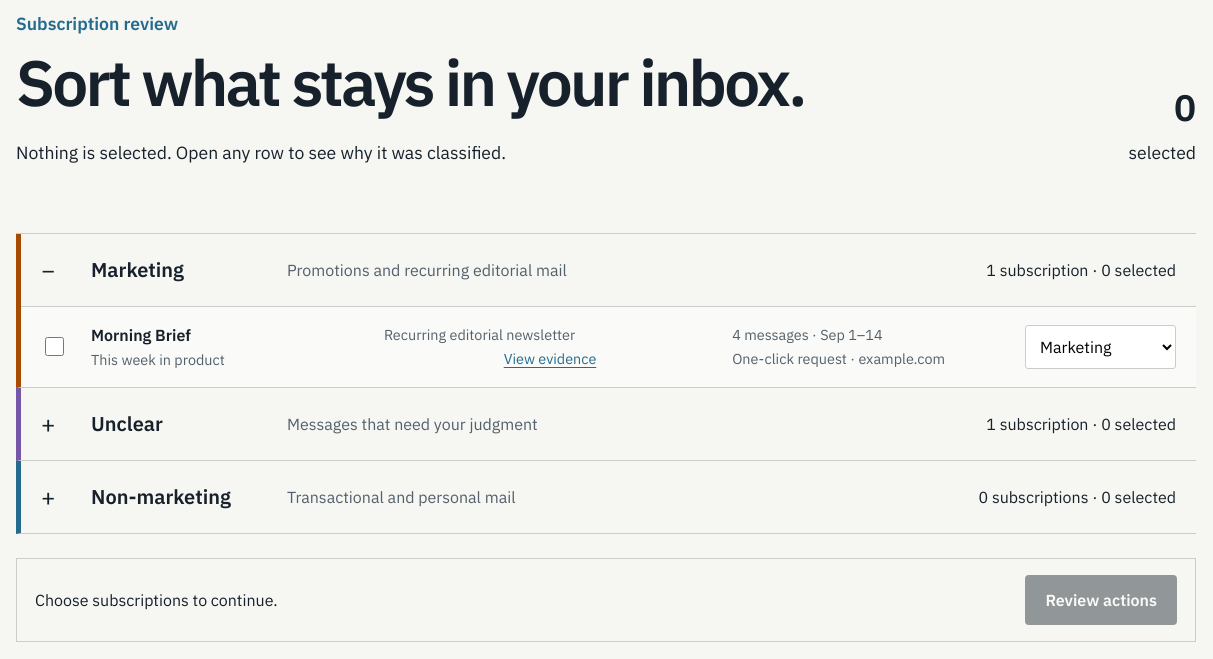
Test: correcting a selected candidate clears its stale selection
Click the checkbox named "morning brief": x=54, y=346 left=45, top=337, right=64, bottom=356
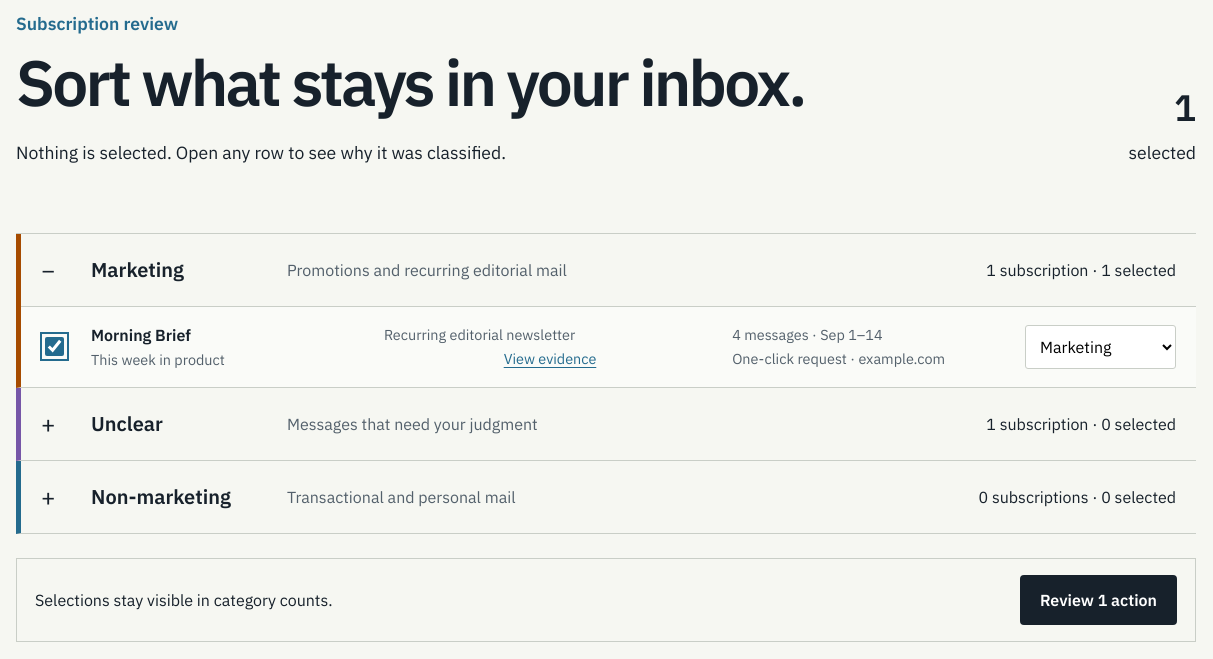
Select "Unclear" in the dropdown named "correct category for morning brief": x=1100, y=347 left=1025, top=325, right=1176, bottom=369
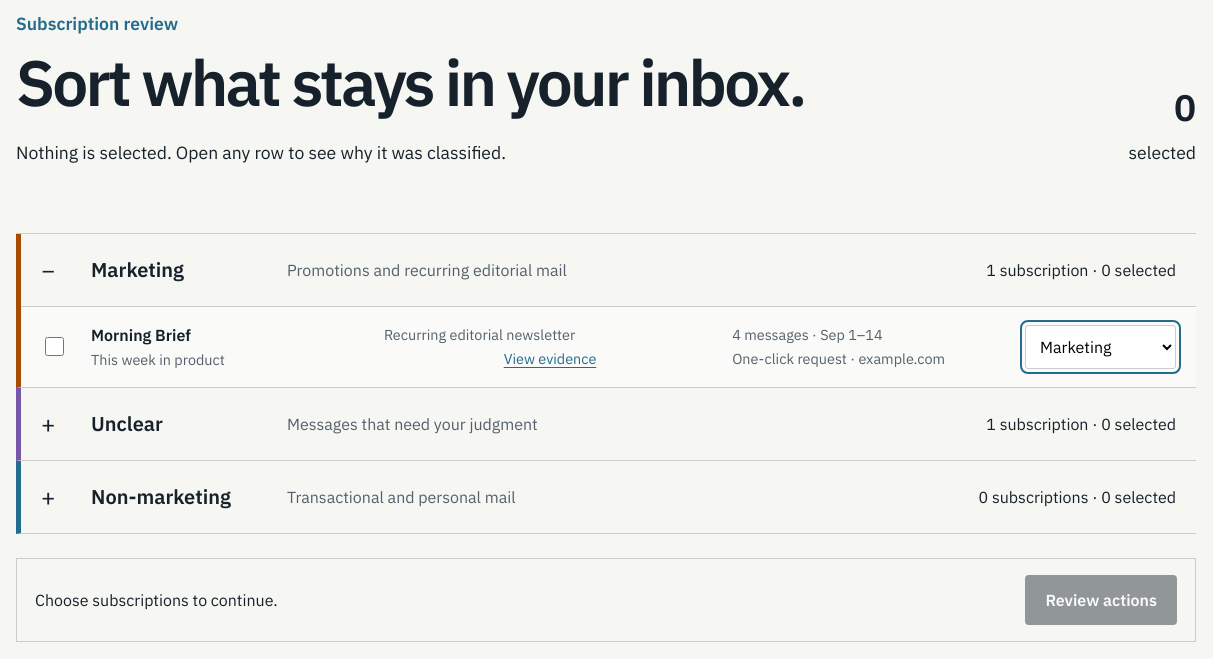
expect the button "Review actions" is disabled: met, box left=1025, top=575, right=1177, bottom=625
